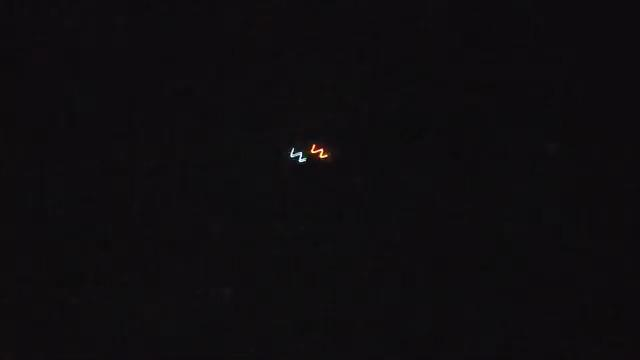Plane: (264, 128, 356, 174)
